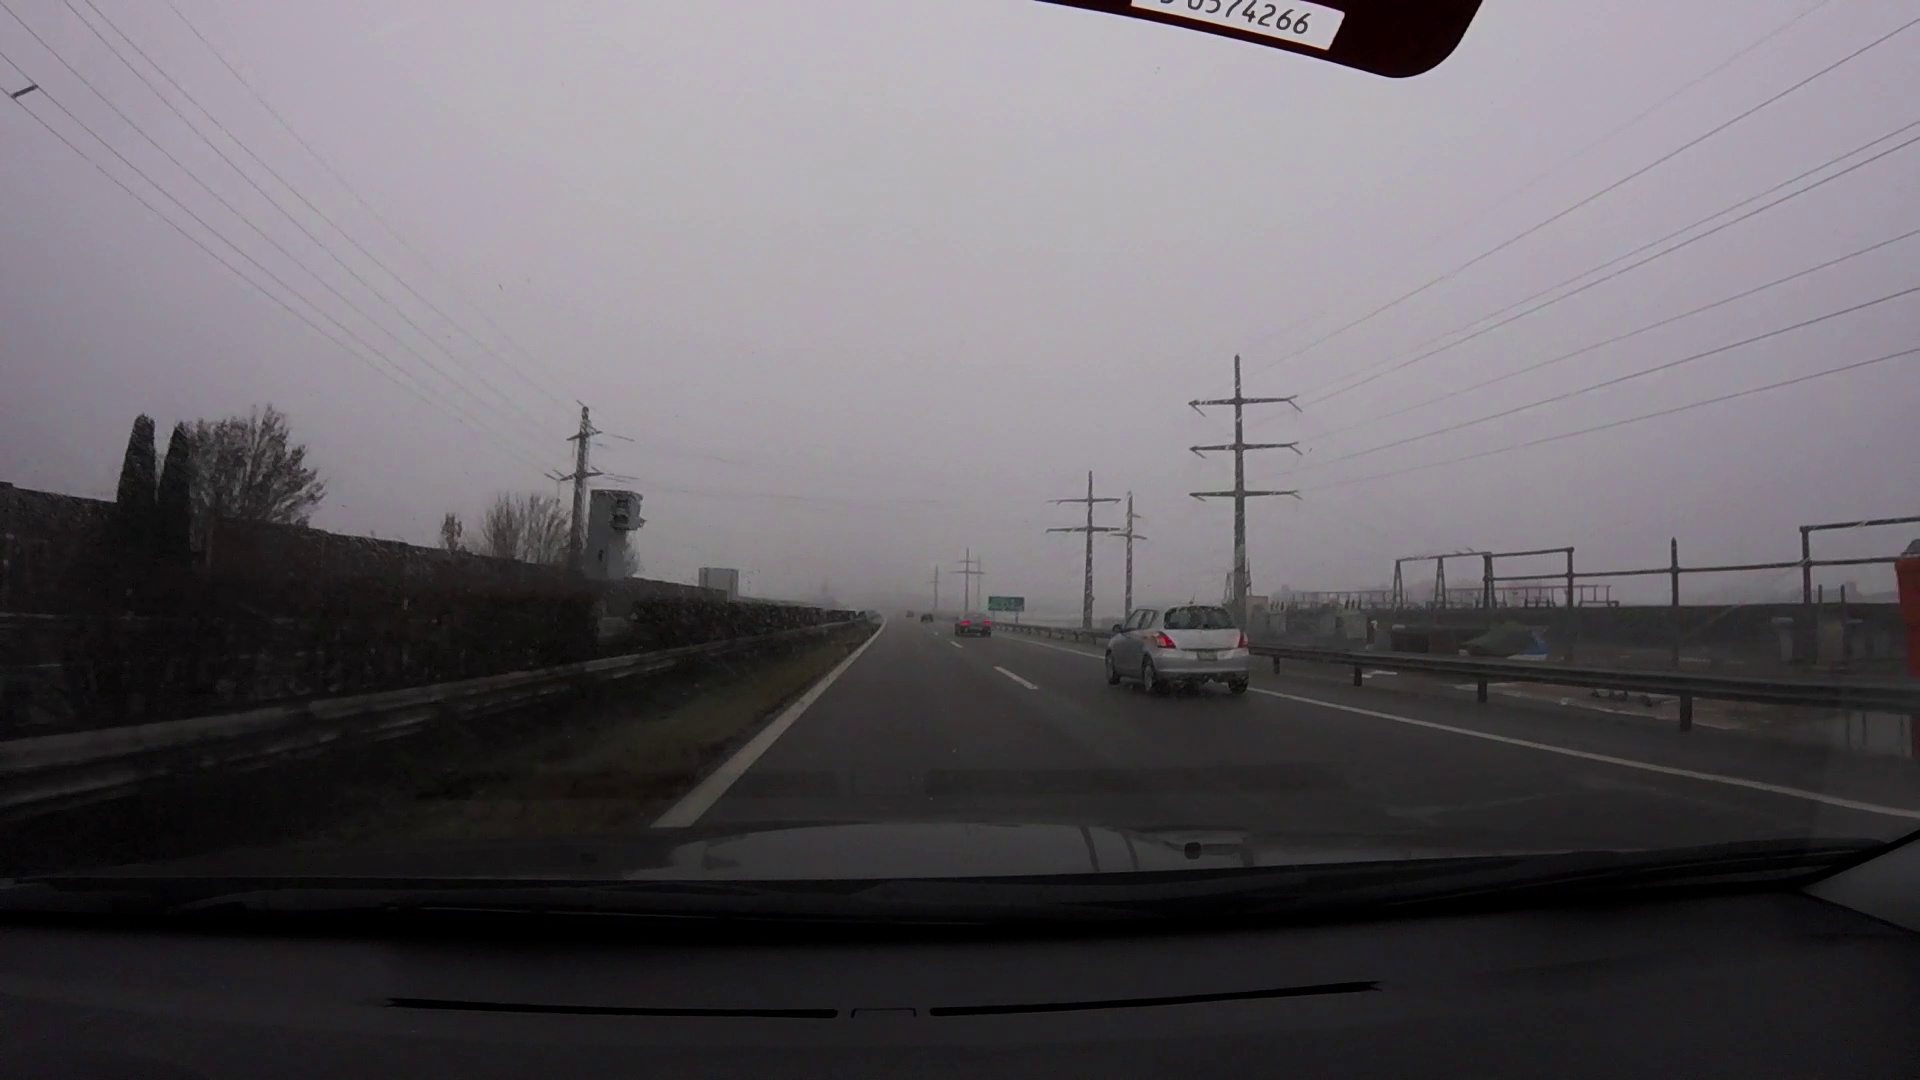radar: (582, 488, 647, 604)
